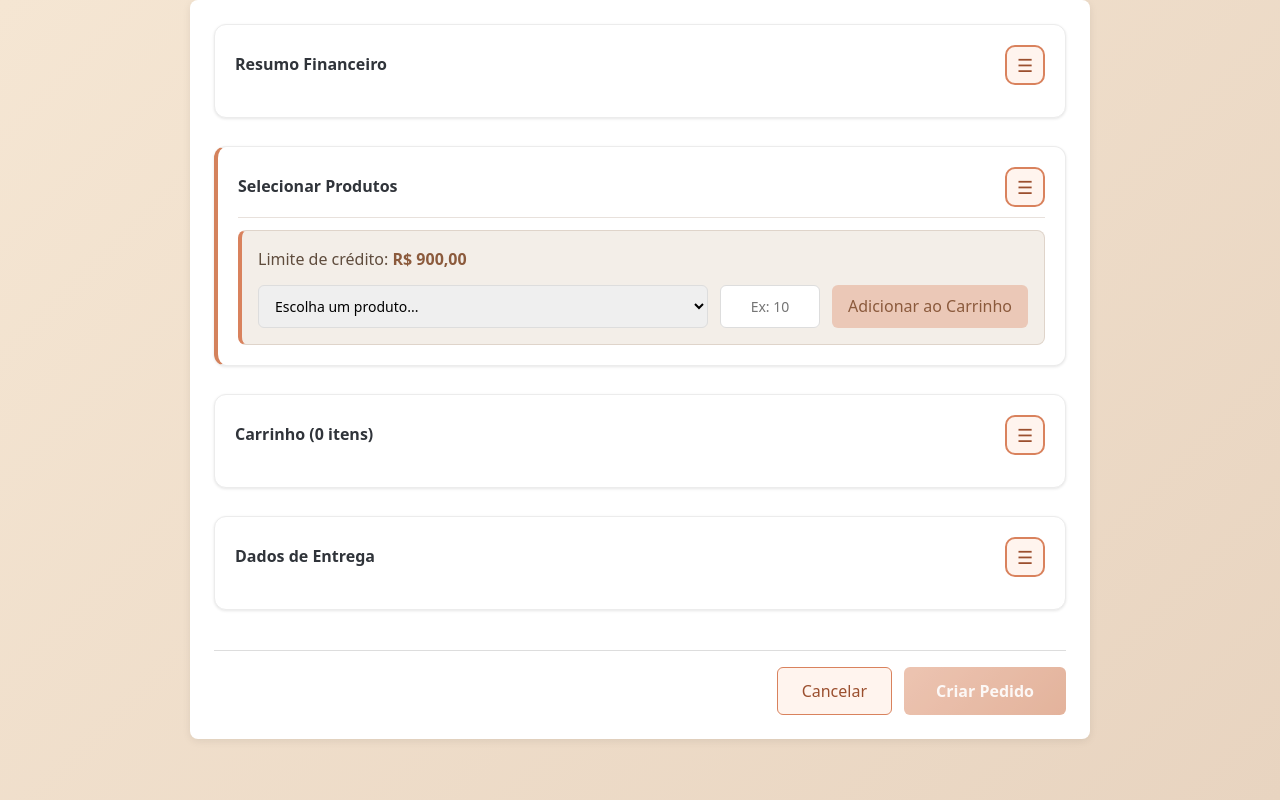
it: CreateOrderForm security rules › remove item do rascunho somente após confirmação
Step 1. Select "Pao para Hamburguer - R$ 5,00" in the dropdown → coordinates (483, 306), box [258, 285, 708, 328]
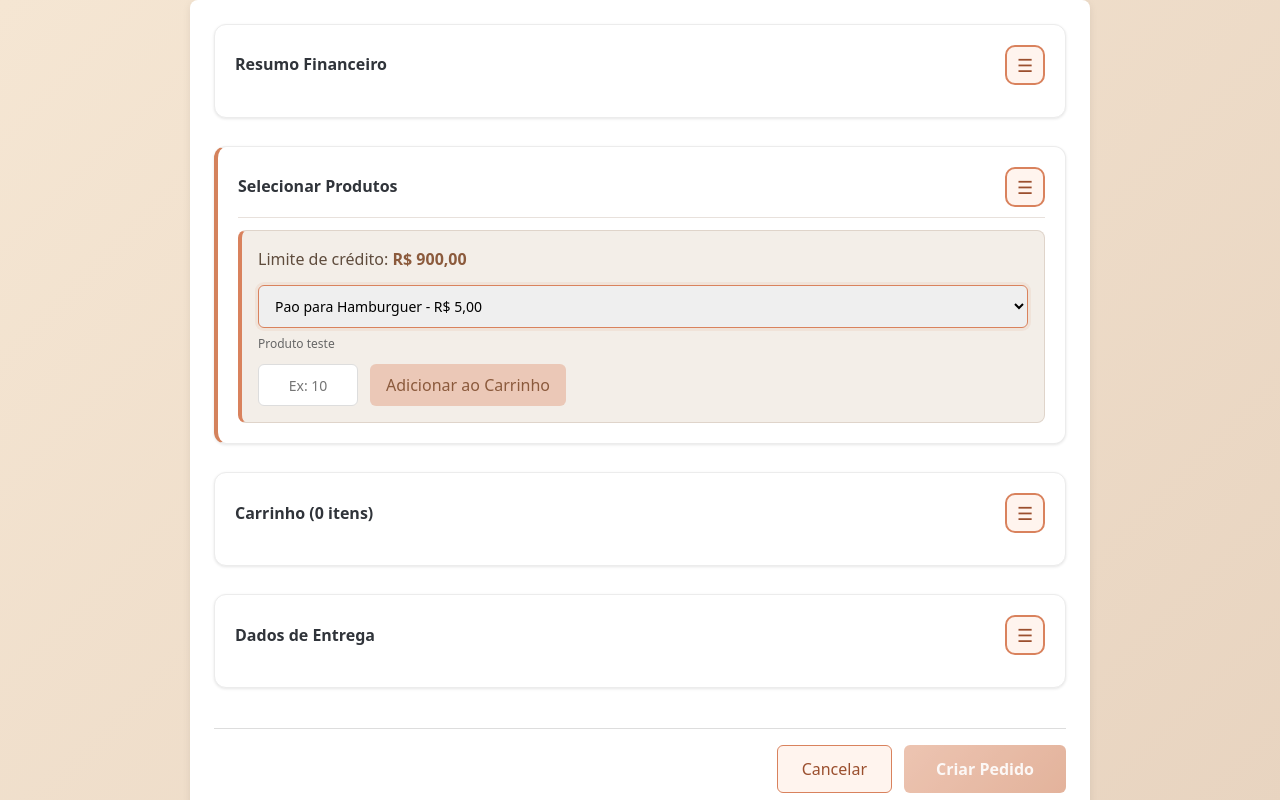
Step 2. Type "2" into the field named "Quantidade" → coordinates (308, 385), box [258, 364, 358, 406]
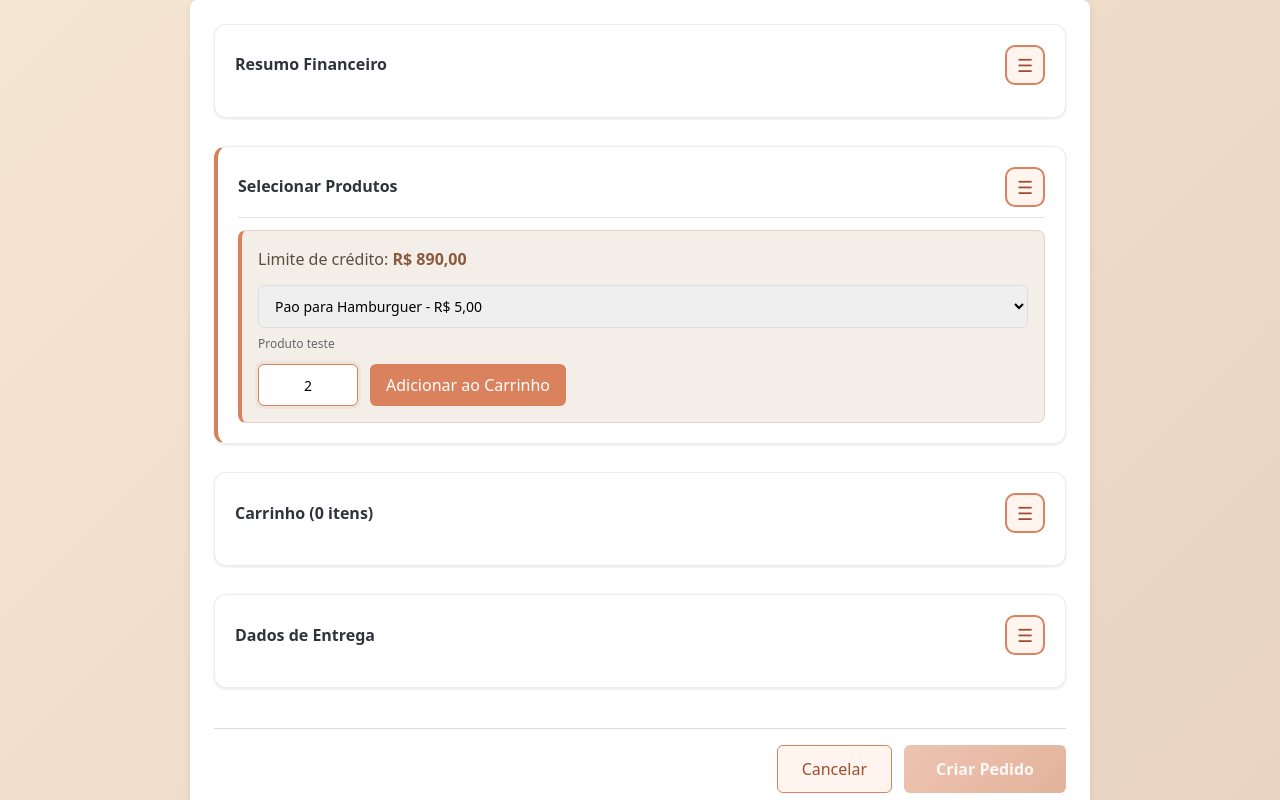
Step 3. Click the button "Adicionar ao Carrinho" → coordinates (468, 385), box [370, 364, 566, 406]
(page scrolled)
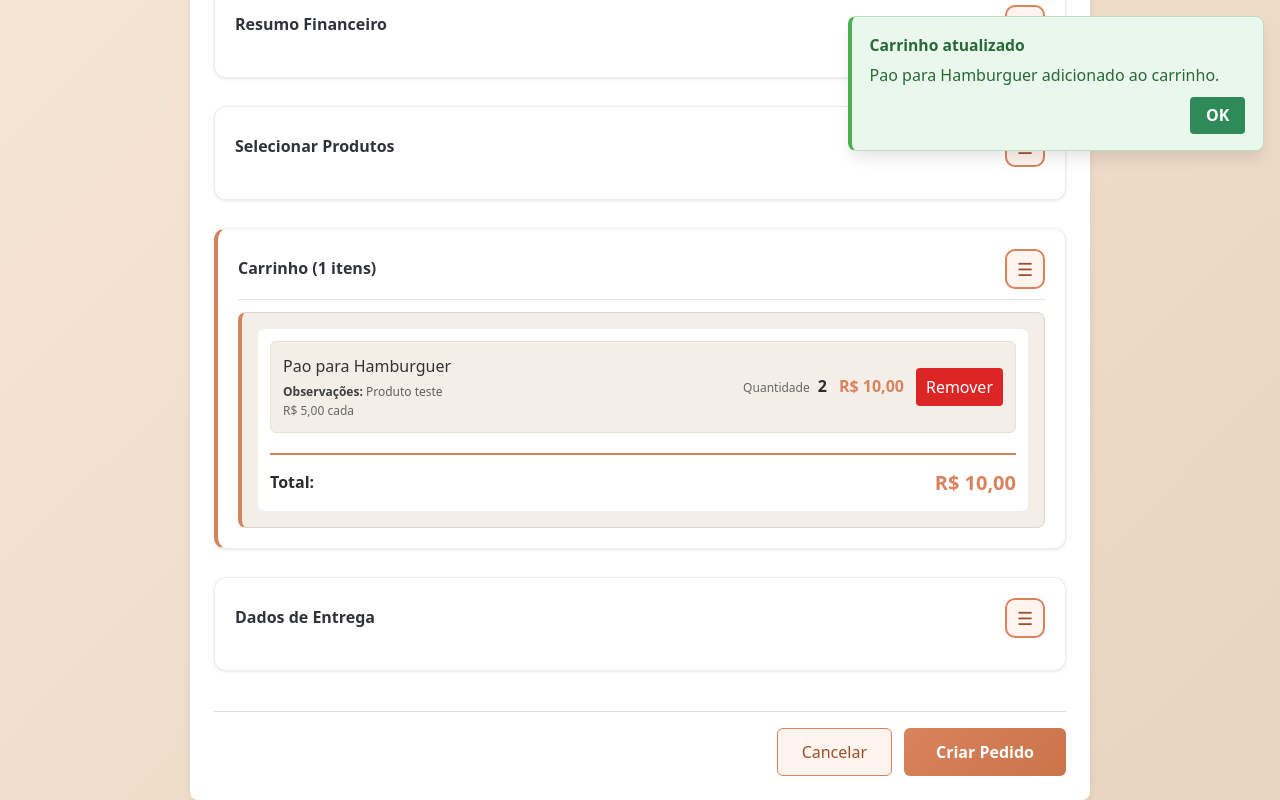
Step 4. Click the button with aria-label "Remover Pao para Hamburguer do carrinho" → coordinates (959, 387), box [916, 368, 1003, 406]
(page scrolled)
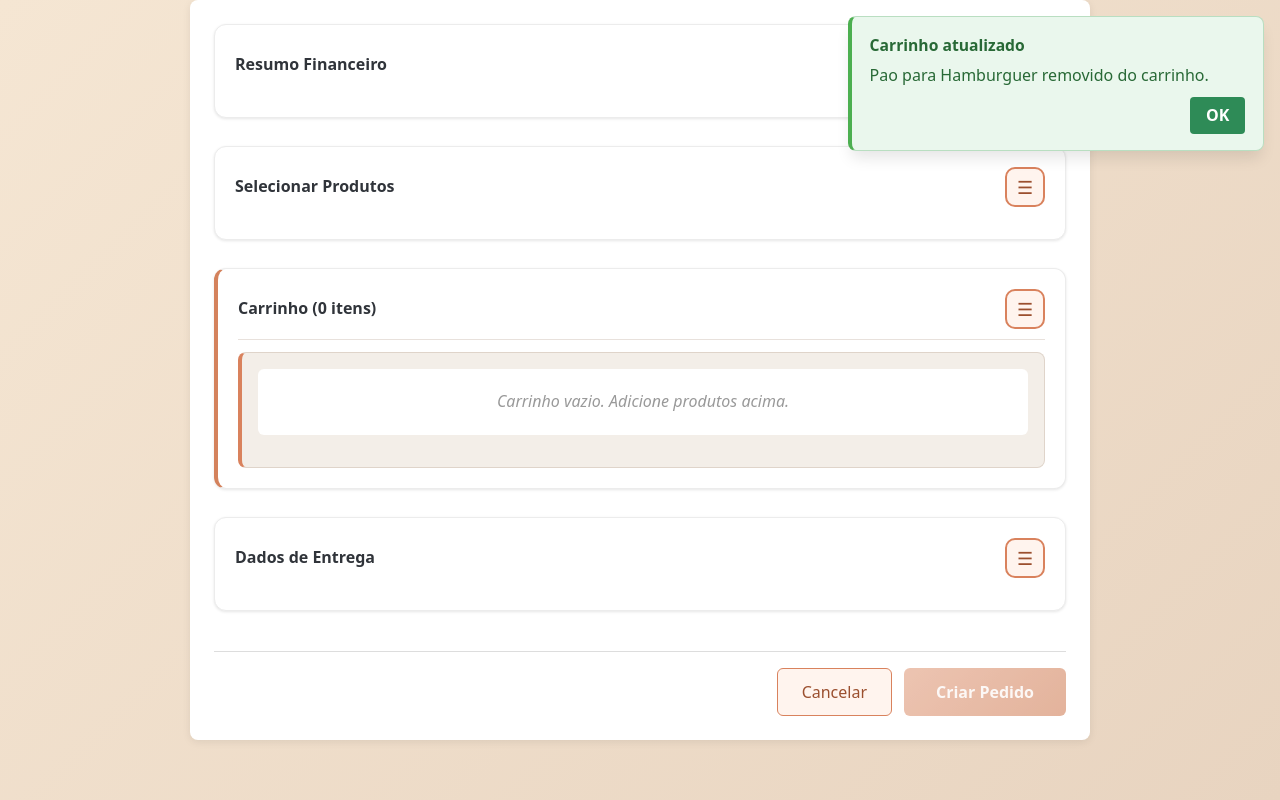
Expected: the text "Carrinho vazio. Adicione produtos acima." is shown, [258, 369, 1028, 435]
